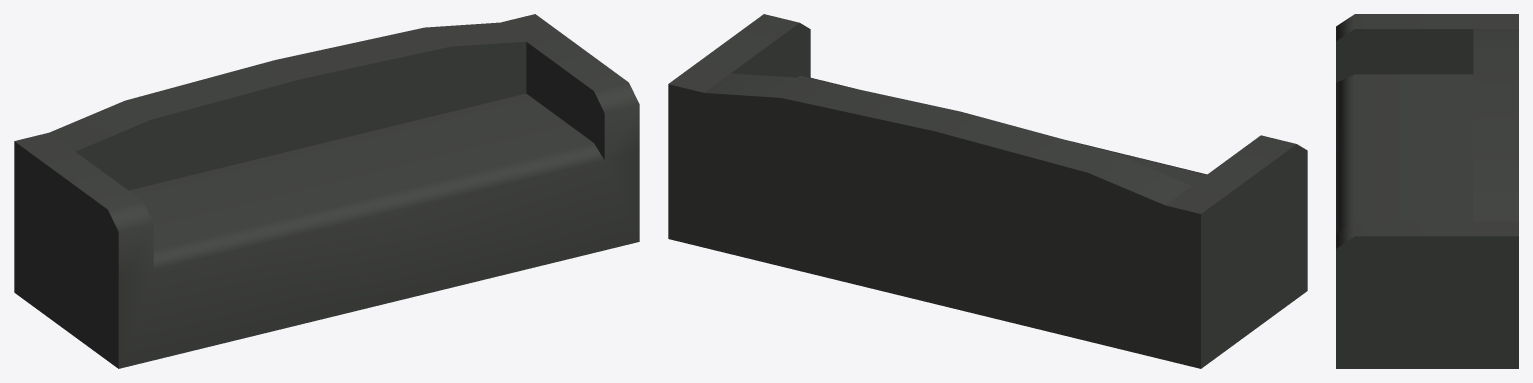
Rendered from soft_couch_4.fbx.
3 views of the same model, side by side, from view 1: azimuth 30°, elevation 25°; view 2: azimuth 150°, elevation 25°; view 3: azimuth 270°, elevation 25° (orthographic). The views are drawn at different scales.
Visible parts, largest first — view 1: soft_couch_4; view 2: soft_couch_4; view 3: soft_couch_4.
Part boxes in pixels (x1,y1,x2,y2): soft_couch_4: [14, 14, 639, 368]; soft_couch_4: [668, 14, 1307, 368]; soft_couch_4: [1336, 14, 1518, 368].
Size of the model in its own units: 9.07 by 2.81 by 3.15.
